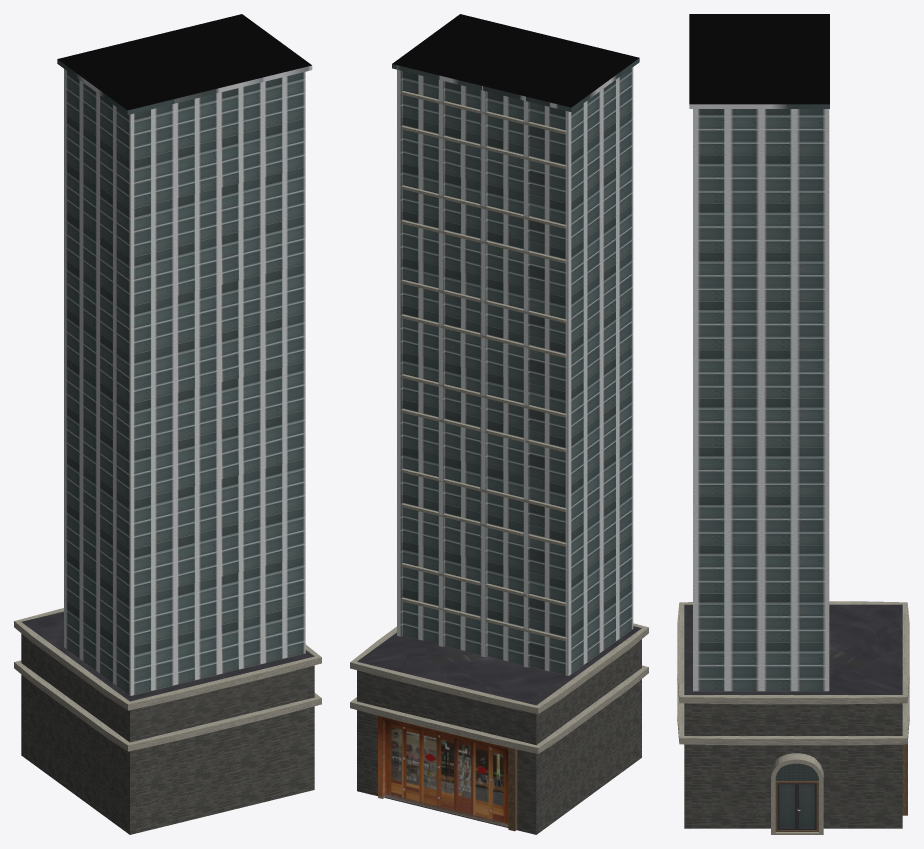
3 views of the same model, side by side, from view 1: azimuth 30°, elevation 25°; view 2: azimuth 150°, elevation 25°; view 3: azimuth 270°, elevation 25° (orthographic). The views are drawn at different scales.
Parts seen in each view (by area): view 1: bina.011; view 2: bina.011; view 3: bina.011.
Boxes of the visible parts, box(x1,y1,x2,y2) form: bina.011: box(14, 14, 321, 834); bina.011: box(350, 14, 648, 834); bina.011: box(677, 14, 909, 834).
Size of the model in its own units: 15.77 by 53.3 by 15.52.
Materials: 2 (1 with a texture image).
